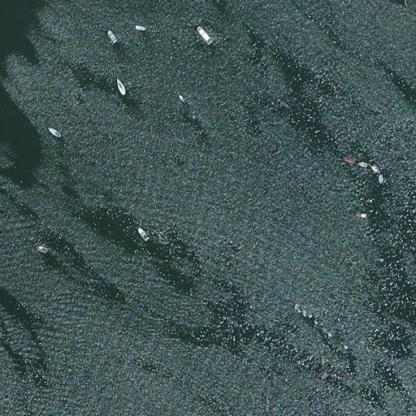ship: (194, 21, 211, 44), (112, 75, 128, 96), (4, 121, 21, 137), (135, 224, 148, 242), (103, 27, 118, 42), (33, 241, 47, 253), (134, 21, 146, 33), (342, 155, 354, 164), (176, 93, 184, 102), (355, 208, 367, 212), (373, 166, 376, 170), (355, 162, 367, 163), (375, 172, 376, 183)
